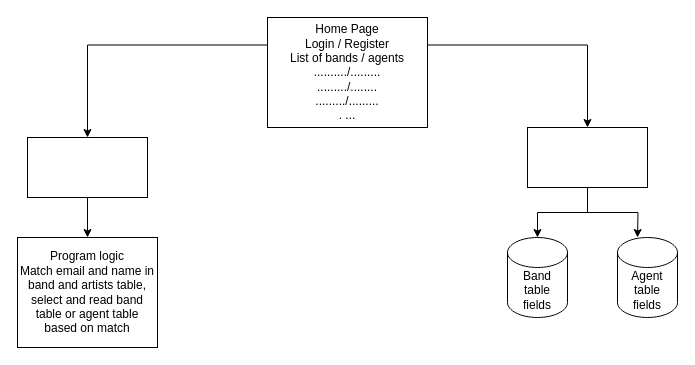
Some shapes in this 695 by 365 pixel diagram are drawn without their labels. Here are the shapes that lost their labels. From the top down, the centre of each, then its label:
At (x=87, y=167): "Login Page Enter email Enter name".
At (x=587, y=157): "Register Page Band or agent update table".
